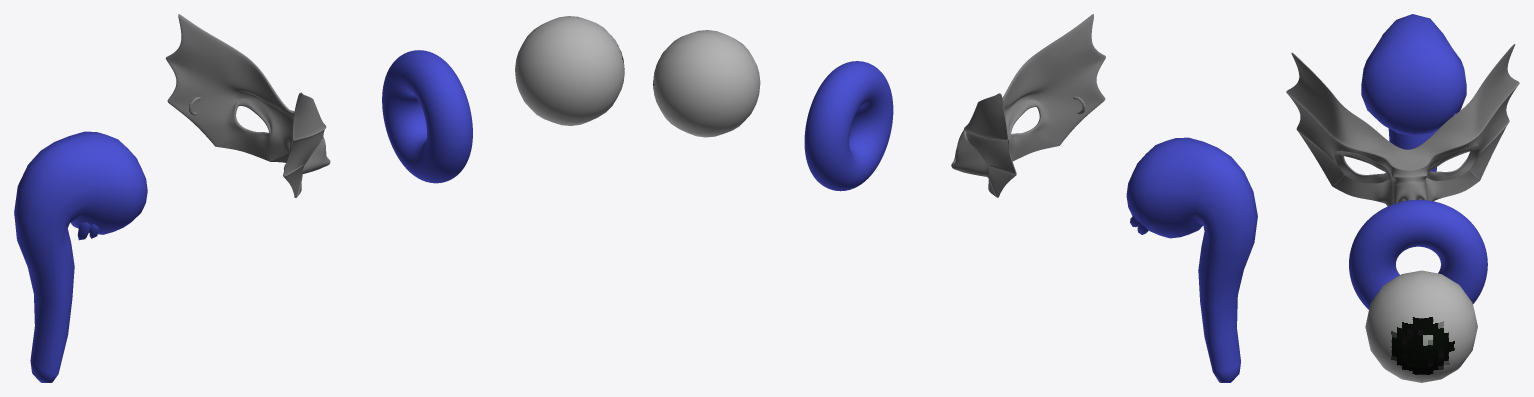
Rendered from vlie parts.fbx.
3 renders of one model, left to right at view 1: azimuth 30°, elevation 25°; view 2: azimuth 150°, elevation 25°; view 3: azimuth 270°, elevation 25°, orthographic. The views are drawn at different scales.
Visible parts, largest first — view 1: node_id49, node_id37, node_id30, root; view 2: node_id49, node_id37, node_id30, root; view 3: node_id37, node_id49, node_id30, root.
Boxes of the visible parts, bbox=[...] form: node_id49: bbox=[14, 131, 147, 382]; node_id37: bbox=[165, 14, 330, 197]; node_id30: bbox=[515, 16, 624, 125]; root: bbox=[382, 50, 472, 183]; node_id49: bbox=[1126, 137, 1257, 382]; node_id37: bbox=[951, 14, 1105, 197]; node_id30: bbox=[653, 30, 760, 137]; root: bbox=[804, 61, 893, 191]; node_id37: bbox=[1286, 44, 1519, 206]; node_id49: bbox=[1361, 14, 1466, 171]; node_id30: bbox=[1365, 270, 1477, 382]; root: bbox=[1349, 199, 1487, 309].
Bounding box in the file's own units: 1.21 × 0.5506 × 0.3973.
Materials: 6 (5 with a texture image).
